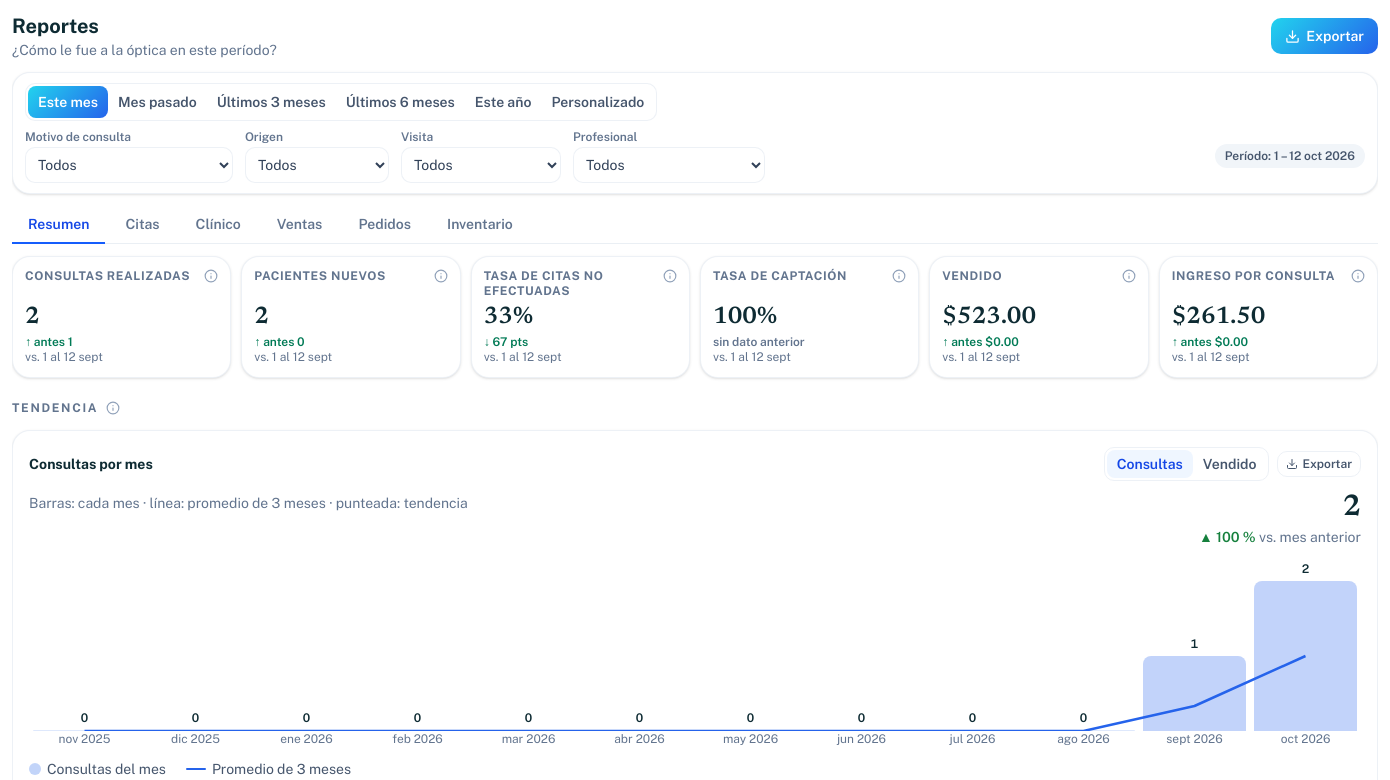
Test: Reportes: Exportar › cada gráfica y tabla tiene su botón Exportar con dos opciones: los datos y el detalle completo
Click the tab "Citas".
click(143, 225)  # box [110,206,176,244]
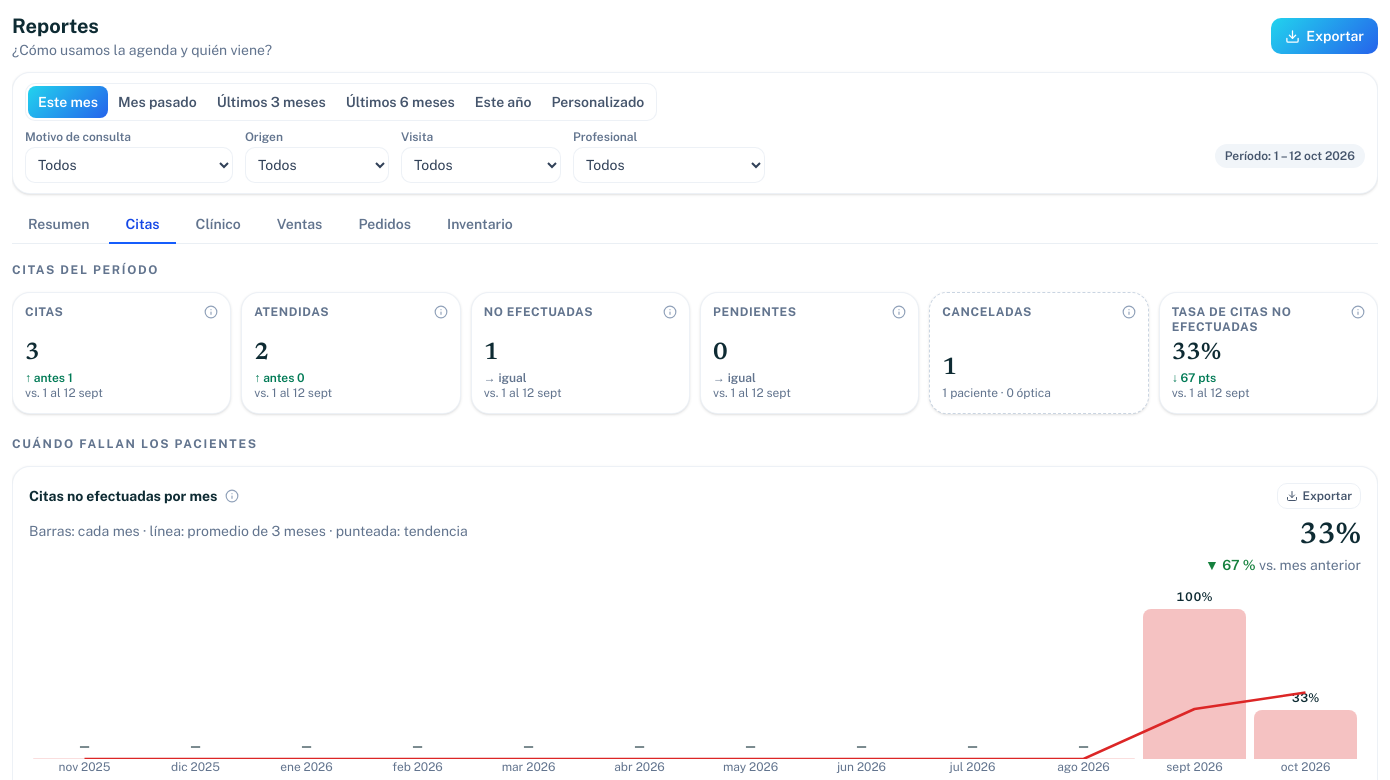
Click the button with aria-label "Exportar Citas no efectuadas por mes".
click(1319, 496)  # box [1277,483,1361,509]
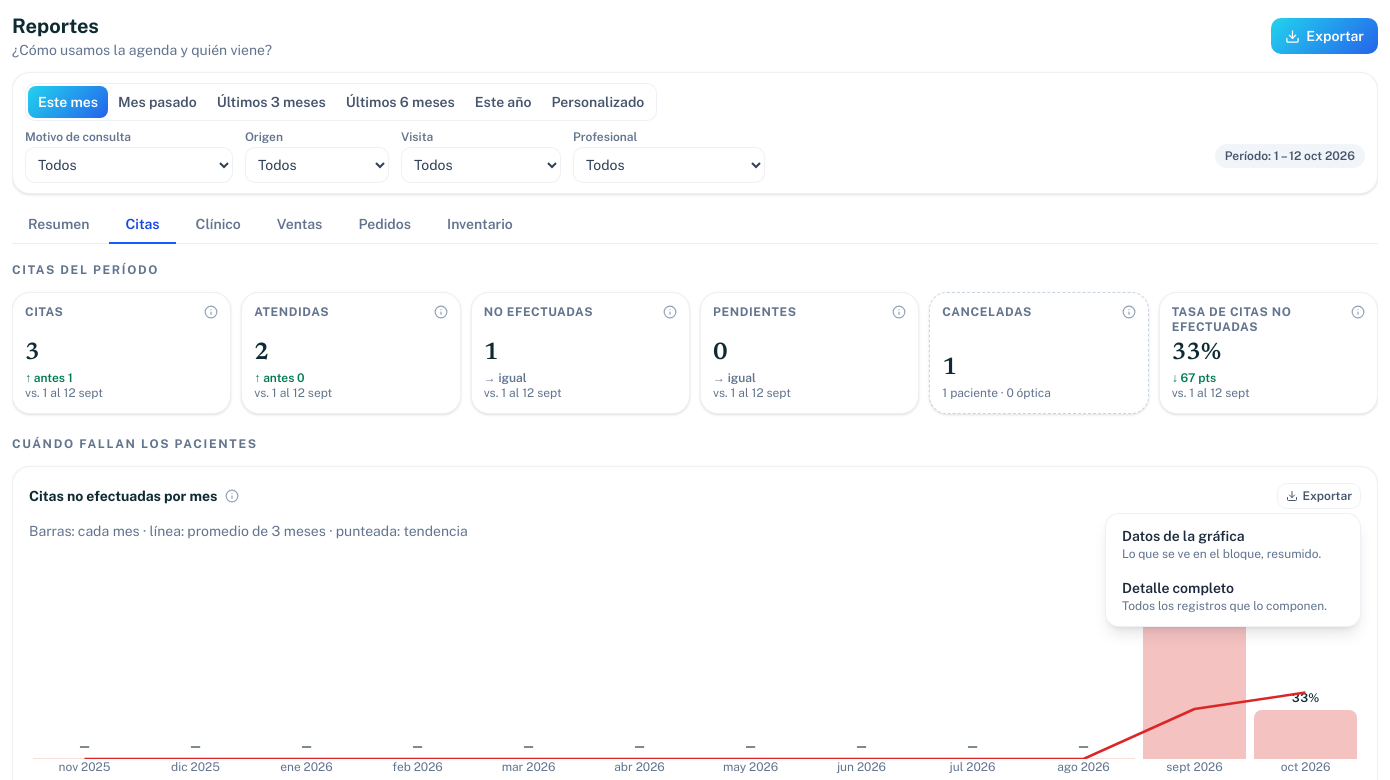
Expected: the menu item "Datos de la gráfica Lo que se ve en el bloque, resumido." is shown, [1110,518,1356,570]
Expected: the menu item "Detalle completo Todos los registros que lo componen." is shown, [1110,570,1356,622]
